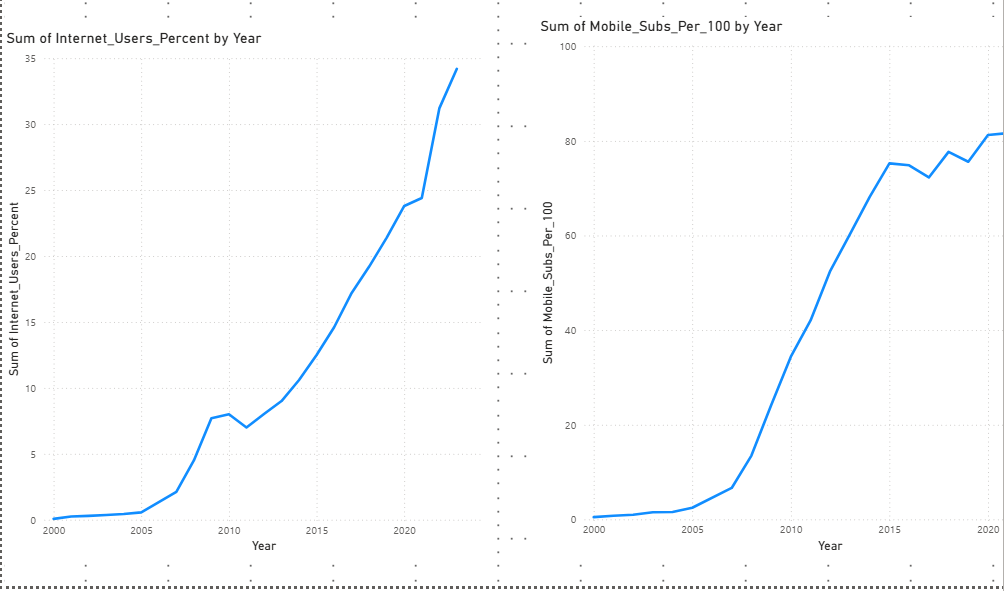

The page's visual inventory and layout, read from the dashboard file:
{"tool":"powerbi","page":{"name":"Page 1","canvas":[1280,720],"ordinal":0},"visuals":[{"type":"lineChart","fields":{"Category":["rwanda_final_data.Year"],"Y":["Sum(rwanda_final_data.Internet_Users_Percent)"]},"box":[0,78.7,560.6,606.7],"z":0},{"type":"lineChart","fields":{"Category":["rwanda_final_data.Year"],"Y":["Sum(rwanda_final_data.Mobile_Subs_Per_100)"]},"box":[614.4,65.3,627.8,620.2],"z":1}]}

Visuals, with their boxes on the page's 1280x720 design canvas (x1, y1, x2, y2). These are canvas units, not pixel positions in the 1004x591 screenshot, which may show the page scaled, cropped or inside an application window:
lineChart - rwanda_final_data.Year x Sum(rwanda_final_data.Internet_Users_Percent): 0:79:561:685
lineChart - rwanda_final_data.Year x Sum(rwanda_final_data.Mobile_Subs_Per_100): 614:65:1242:686
